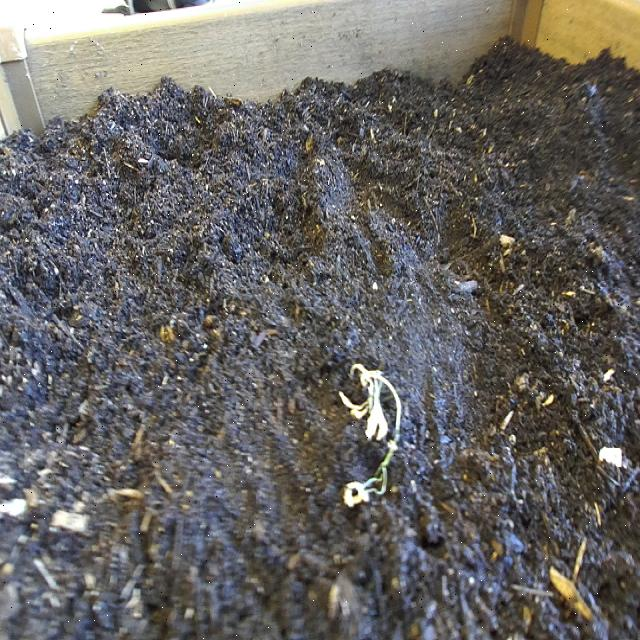Unhealthy: (336, 351, 407, 513)
